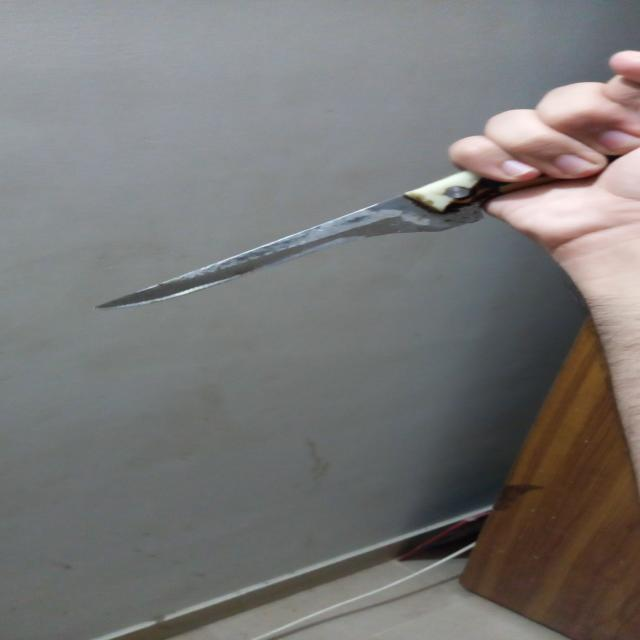knife: (80, 133, 532, 338)
